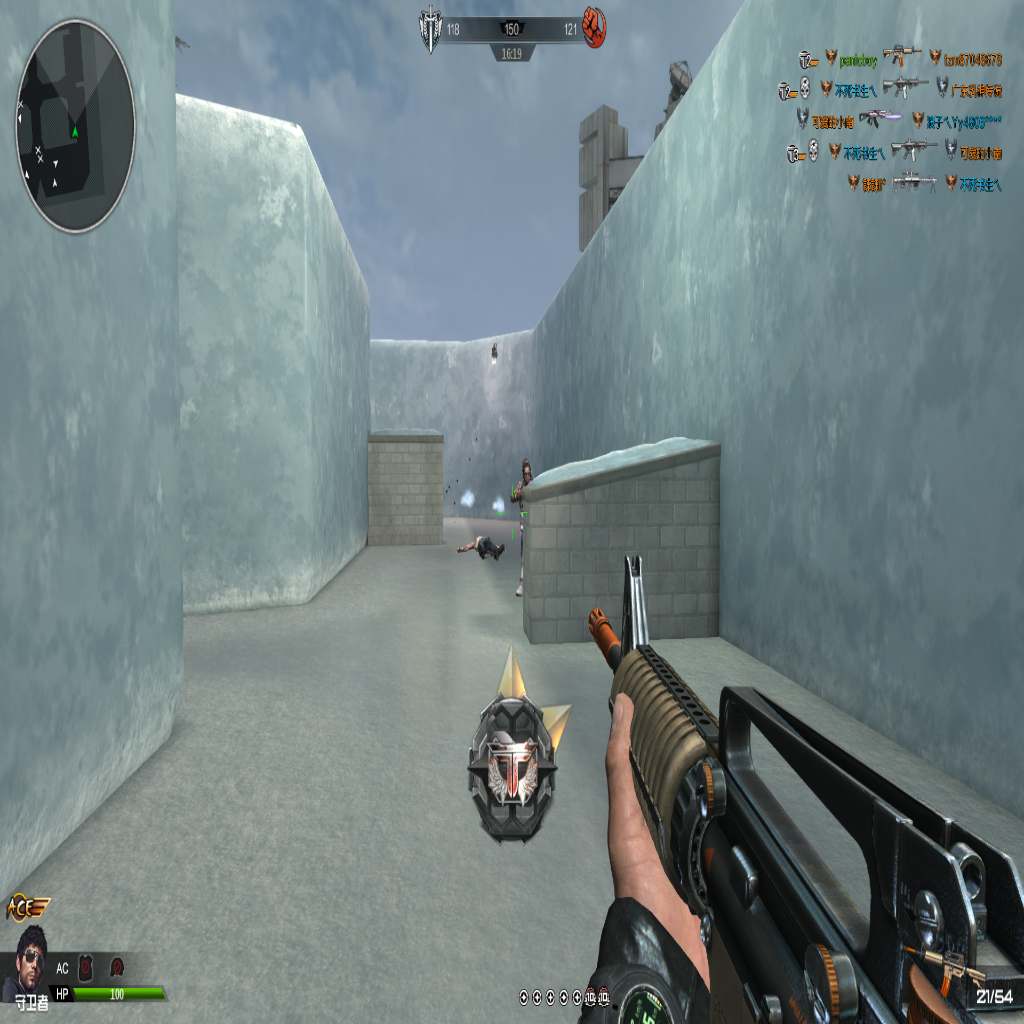tt: (512, 458, 531, 590)
